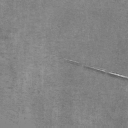finishing roll printing: (64, 58, 128, 80)
